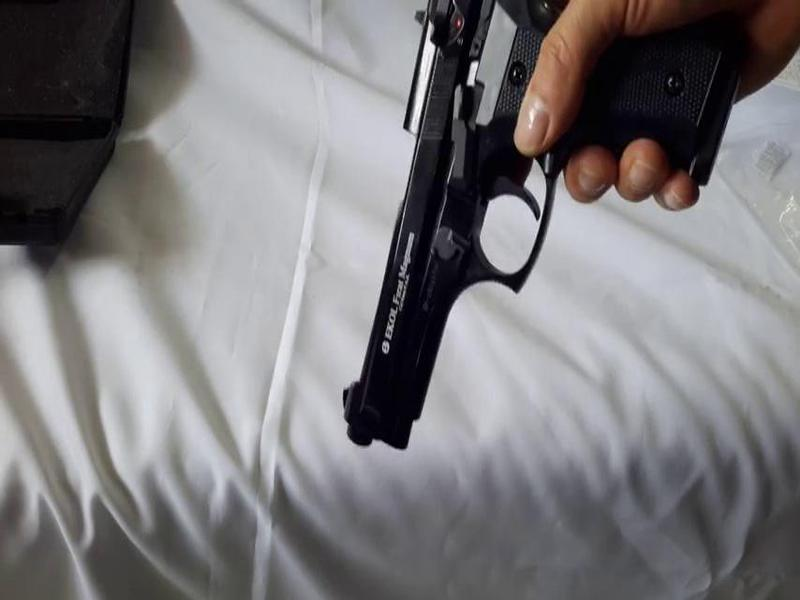Pistola: (240, 17, 748, 435)
